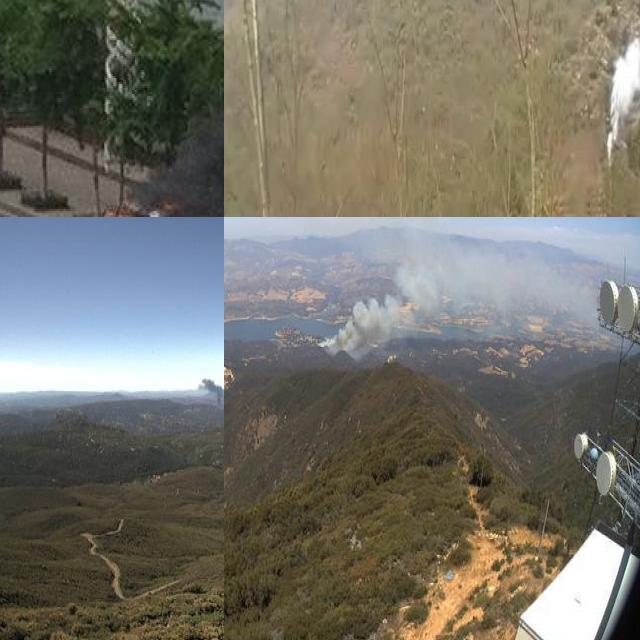smoke: (316, 217, 591, 368), (167, 0, 224, 215), (606, 35, 640, 159), (194, 368, 224, 412)
